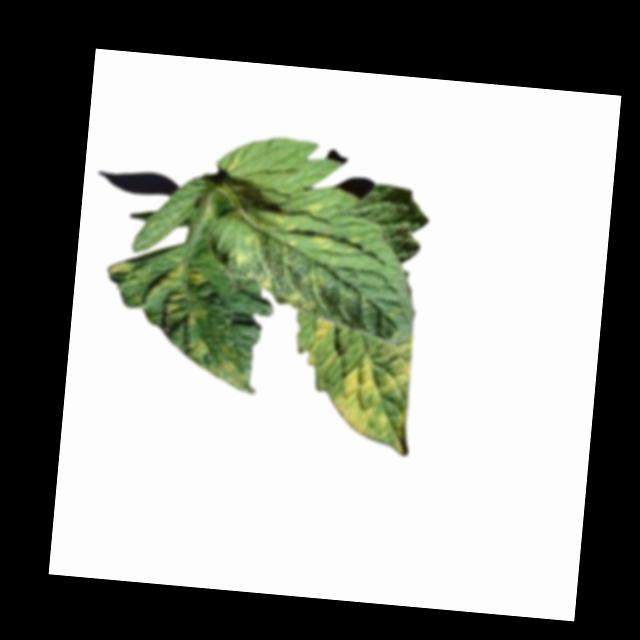Leaf_Mold: (325, 332, 418, 458), (143, 262, 209, 331), (205, 342, 259, 394), (279, 269, 328, 315), (302, 319, 331, 372), (297, 196, 328, 224), (104, 260, 138, 284), (183, 337, 207, 362), (308, 230, 332, 252)
